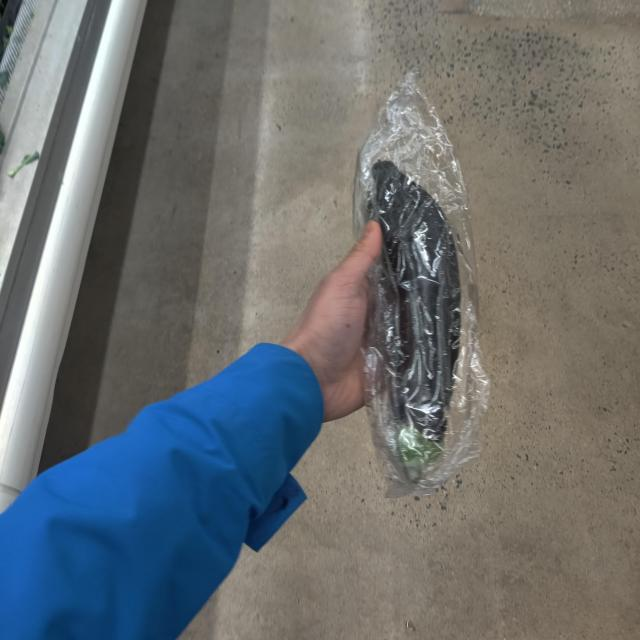Eggplant: (363, 73, 489, 482)
